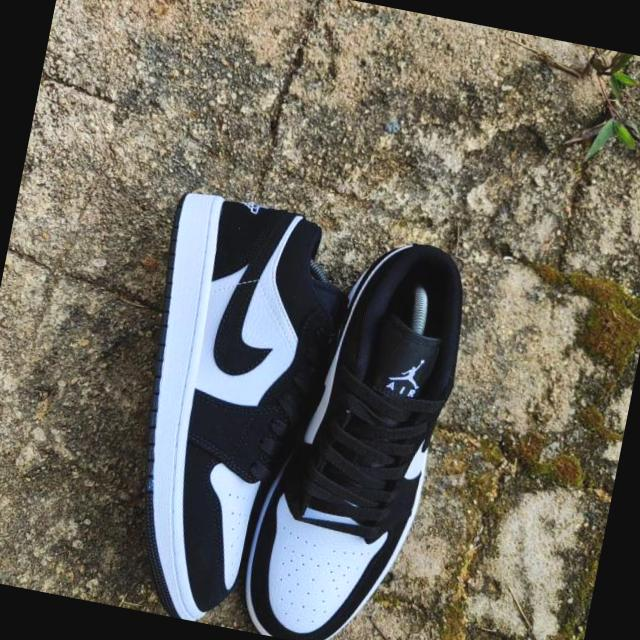nike_fake_jordan: (97, 190, 372, 640), (239, 221, 488, 640)
